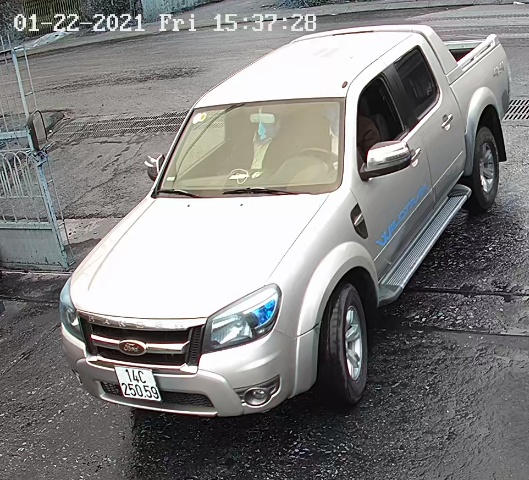vehicle plate: (108, 359, 164, 407)
